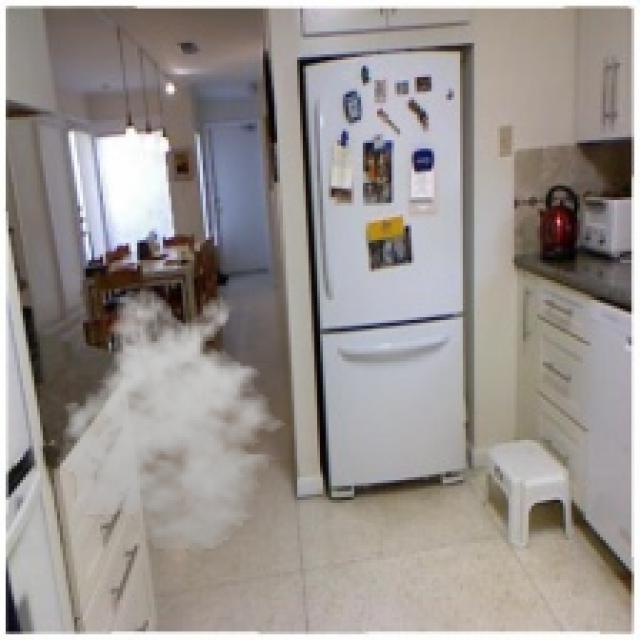smoke: (49, 286, 297, 554)
